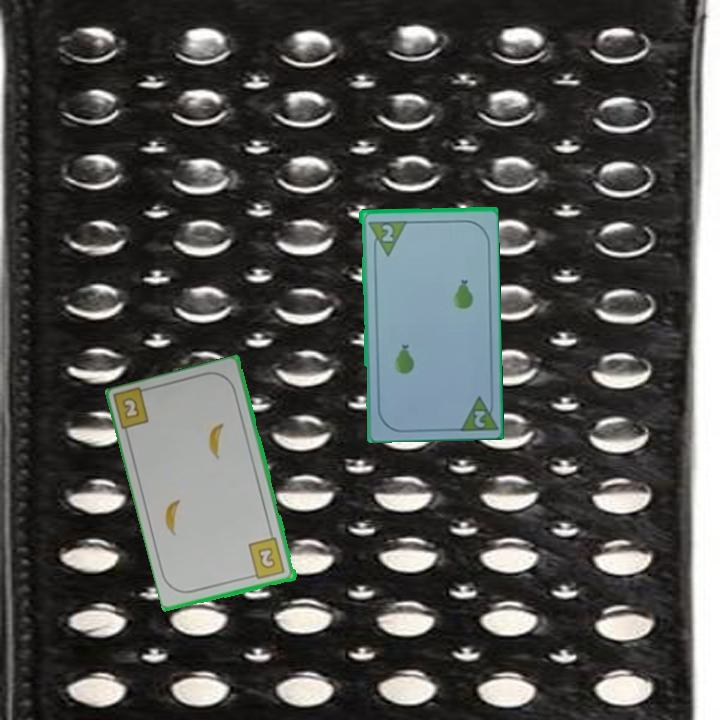2b: (245, 534, 288, 582), (118, 394, 143, 422)
2p: (454, 390, 498, 433), (364, 217, 407, 258)
